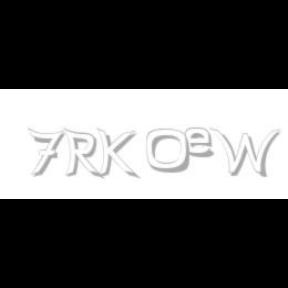7: (29, 128, 66, 178)
K: (96, 128, 136, 180)
O: (146, 128, 190, 174)
R: (63, 128, 101, 180)
W: (209, 128, 281, 178)
e: (186, 128, 218, 158)
